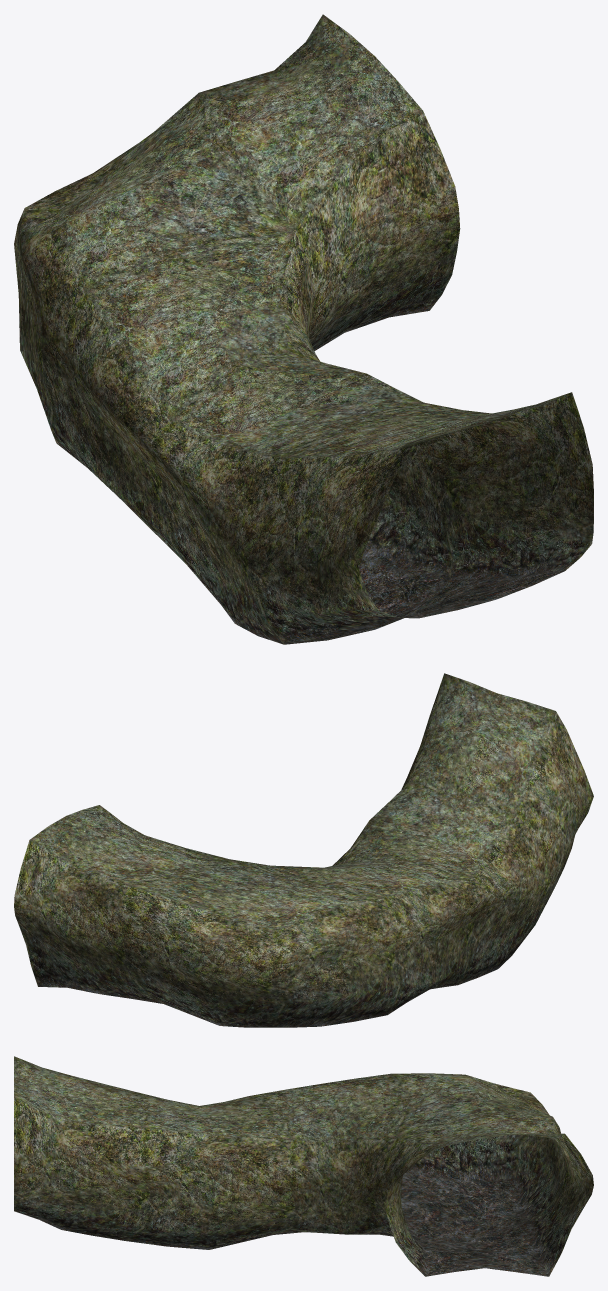
Rendered from thm_all_cave_s02_damprock_r10_mesh_r10.fbx.
3 views of the same model, one above another, from view 1: azimuth 30°, elevation 25°; view 2: azimuth 150°, elevation 25°; view 3: azimuth 270°, elevation 25° (orthographic). The views are drawn at different scales.
Visible parts, largest first — view 1: mesh_node; view 2: mesh_node; view 3: mesh_node.
Part boxes in pixels (x1=…): mesh_node: x1=14, y1=14, x2=593, y2=644; mesh_node: x1=14, y1=673, x2=593, y2=1027; mesh_node: x1=14, y1=1056, x2=593, y2=1276.
Bounding box in the file's own units: 22.26 × 15.73 × 41.06.
